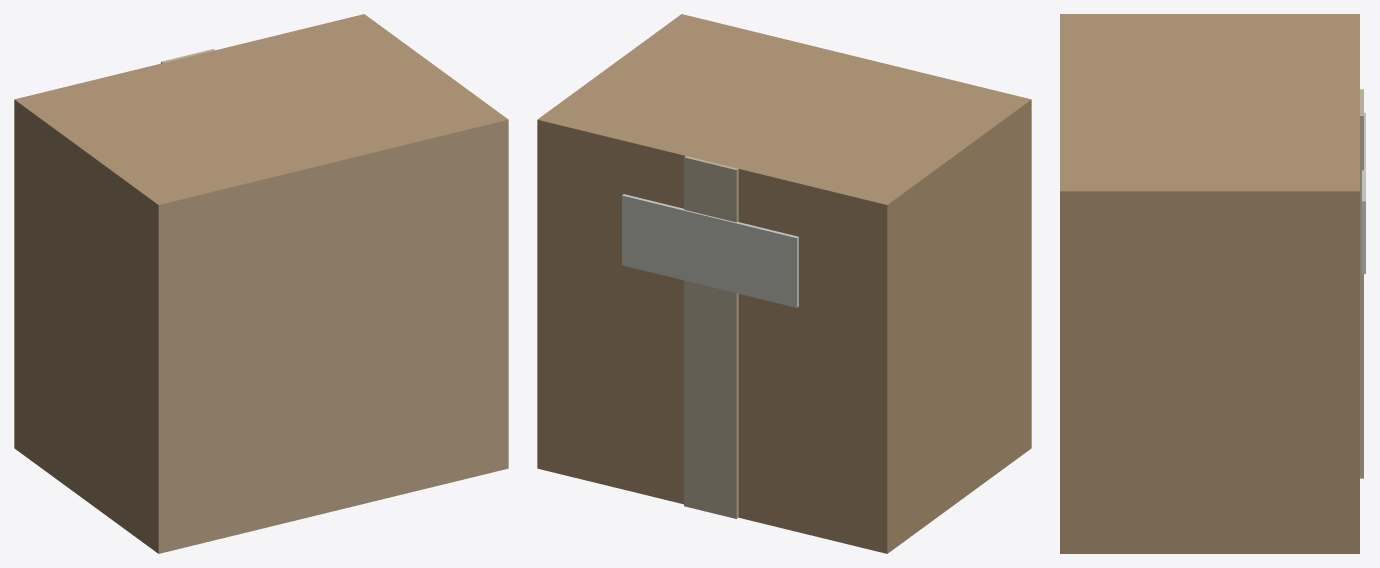
File: huge.glb
The picture shows the model from 3 angles, left to right: view 1: azimuth 30°, elevation 25°; view 2: azimuth 150°, elevation 25°; view 3: azimuth 270°, elevation 25°; orthographic projection. The views are drawn at different scales.
Visible parts, largest first — view 1: huge2; view 2: huge2; view 3: huge2.
Boxes of the visible parts, x1,y1,x2,y2 form: huge2: (14, 14, 508, 553); huge2: (537, 14, 1031, 553); huge2: (1060, 14, 1365, 553).
Bounding box in the file's own units: 1.05 × 1 × 0.765.
